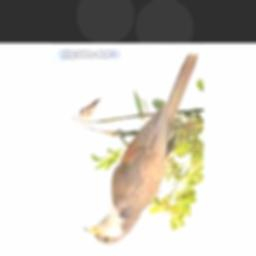Cuckoo: (84, 53, 199, 246)
